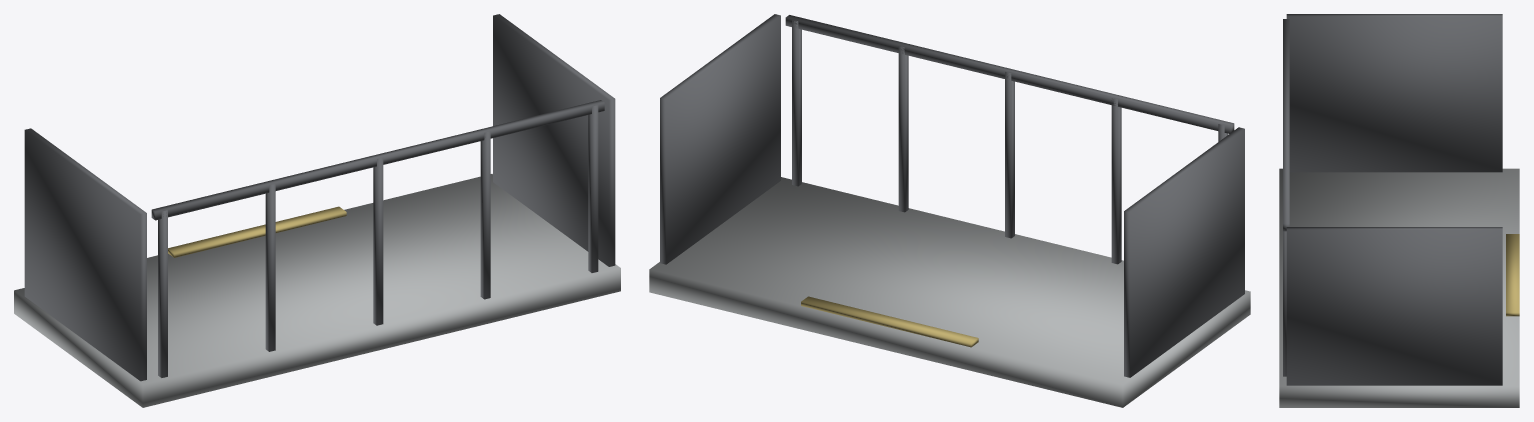
File: steel_w300_d140_door.glb
3 renders of one model, left to right at view 1: azimuth 30°, elevation 25°; view 2: azimuth 150°, elevation 25°; view 3: azimuth 270°, elevation 25°, orthographic. The views are drawn at different scales.
Visible parts, largest first — view 1: world; view 2: world; view 3: world.
Part boxes in pixels (x1,y1,x2,y2): world: (14,14,620,407); world: (649,14,1250,407); world: (1279,14,1519,407).
Size of the model in its own units: 3 by 1.14 by 1.4.
